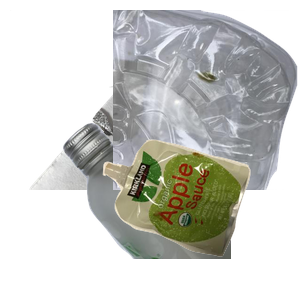glass: (60, 120, 300, 300)
paper: (10, 10, 250, 190)
plastic: (113, 10, 300, 190)
trash: (100, 137, 300, 300)
